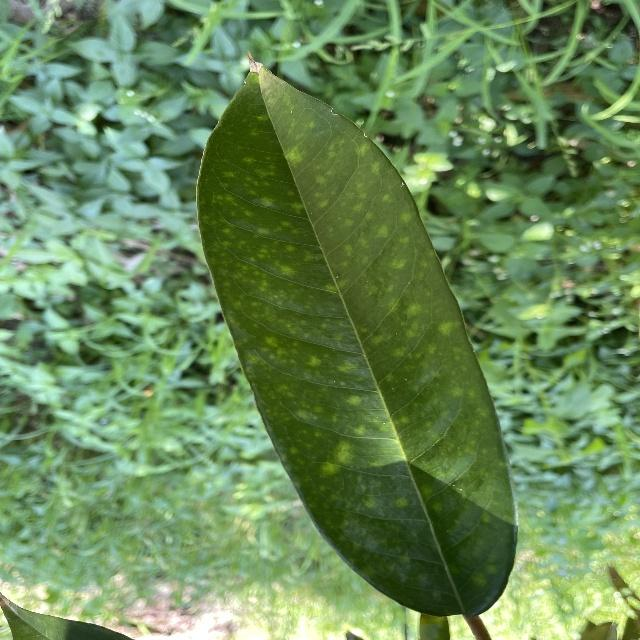Leaf Spot: (185, 48, 529, 621)
